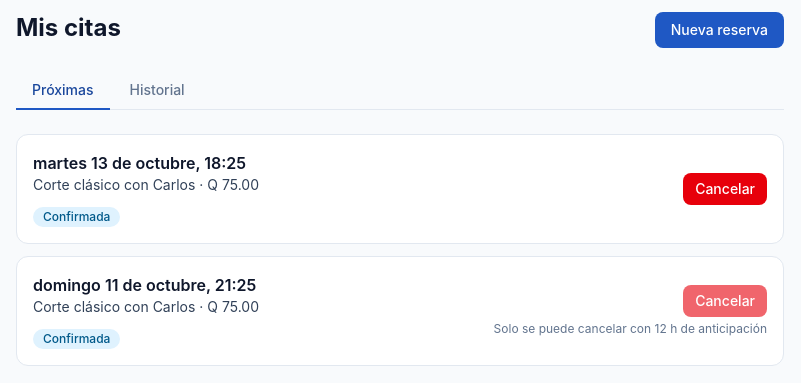
Test: Mis citas › la pestaña Historial muestra las citas pasadas
The width and height of the screenshot is (801, 383).
Step 1. Click the tab "Historial" → (157, 91), box left=114, top=72, right=201, bottom=110
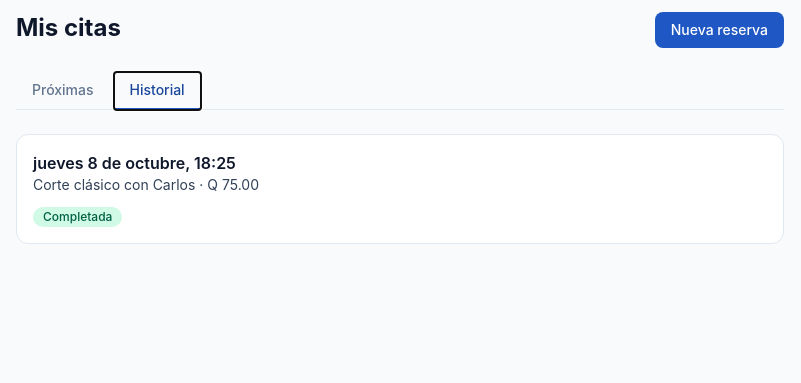
Expected: the text "Completada" is shown, left=33, top=207, right=122, bottom=227
Expected: the button "Cancelar" is gone
